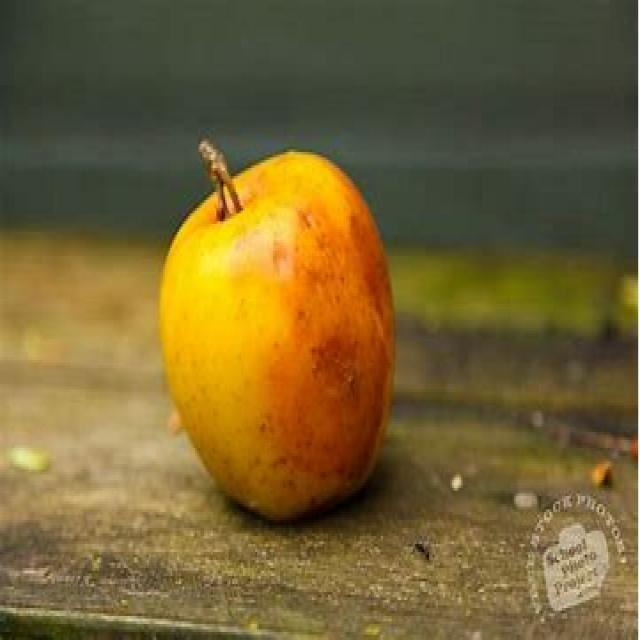Apple: (159, 132, 398, 510)
